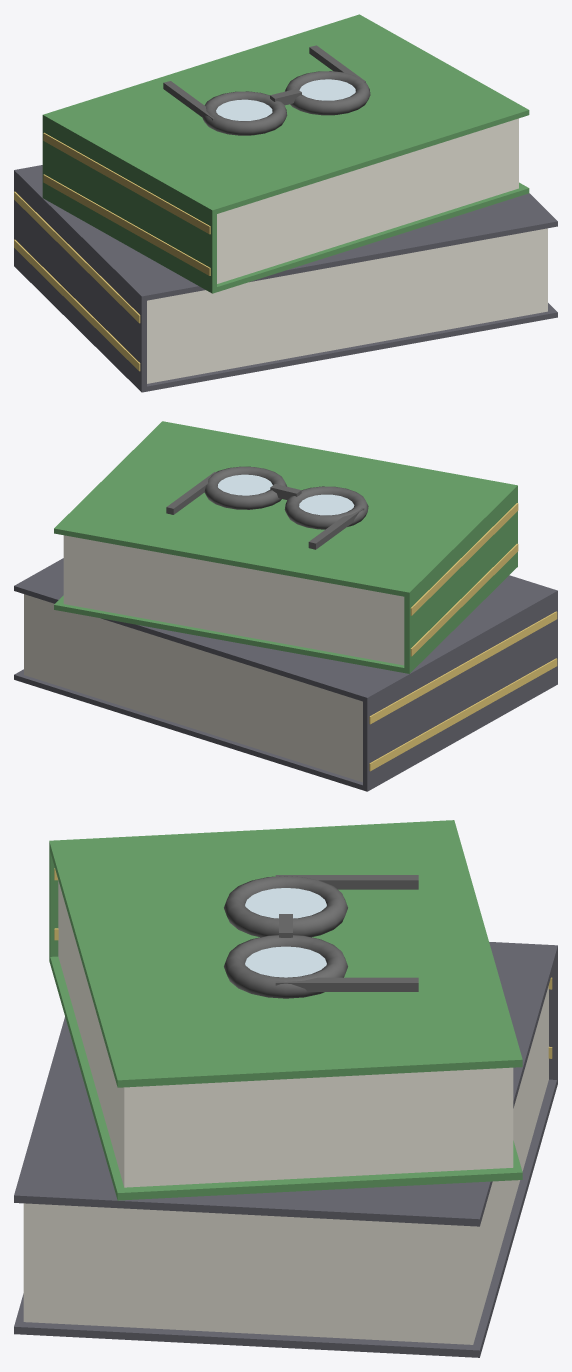
File: book_stack_tomes.glb
3 renders of one model, top to bottom at view 1: azimuth 30°, elevation 25°; view 2: azimuth 150°, elevation 25°; view 3: azimuth 270°, elevation 25°, orthographic. The views are drawn at different scales.
Parts seen in each view (by area): view 1: book_stack_tomes; view 2: book_stack_tomes; view 3: book_stack_tomes.
Boxes of the visible parts, bbox=[...] form: book_stack_tomes: bbox=[14, 14, 557, 392]; book_stack_tomes: bbox=[14, 421, 557, 791]; book_stack_tomes: bbox=[14, 820, 557, 1357].
Size of the model in its own units: 0.346 by 0.1545 by 0.2667.
